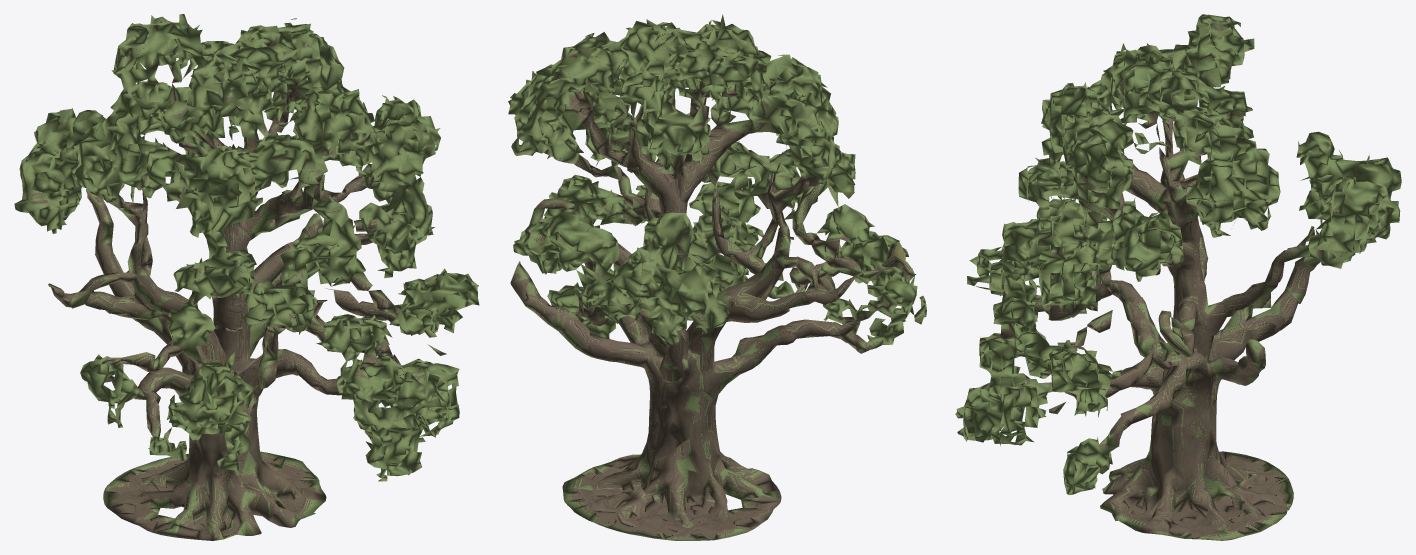
Rendered from valley-oak-lite.glb.
The picture shows the model from 3 angles, left to right: view 1: azimuth 30°, elevation 25°; view 2: azimuth 150°, elevation 25°; view 3: azimuth 270°, elevation 25°; orthographic projection. The views are drawn at different scales.
Bounding box in the file's own units: 1.6 × 1.89 × 1.7.
1 material, 1 textured.
